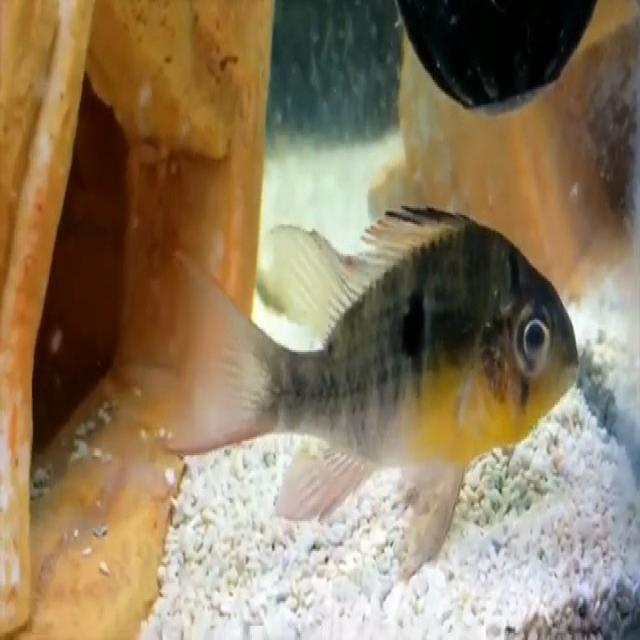fish: (172, 194, 587, 582)
